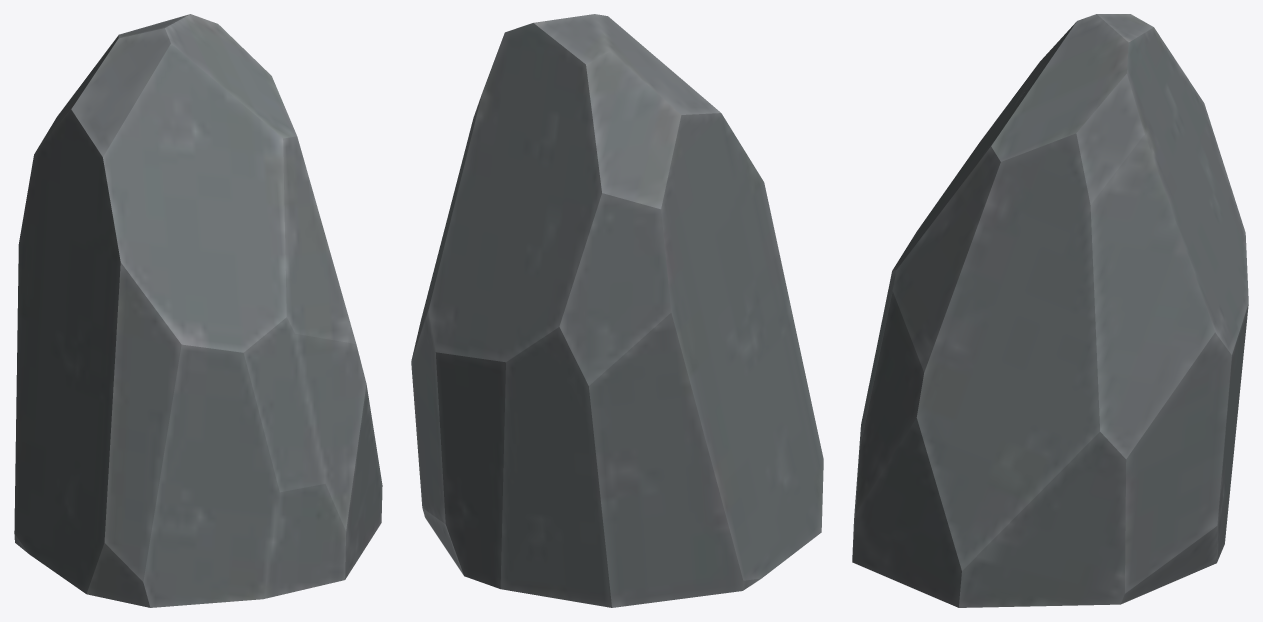
File: rock-8.glb
3 renders of one model, left to right at view 1: azimuth 30°, elevation 25°; view 2: azimuth 150°, elevation 25°; view 3: azimuth 270°, elevation 25°, orthographic. The views are drawn at different scales.
Visible parts, largest first — view 1: model; view 2: model; view 3: model.
Part boxes in pixels (x1,y1,x2,y2): model: (14,14,382,607); model: (411,14,823,607); model: (852,14,1248,607).
Size of the model in its own units: 0.6101 by 0.9428 by 0.6556.
Materials: 1 (1 with a texture image).
